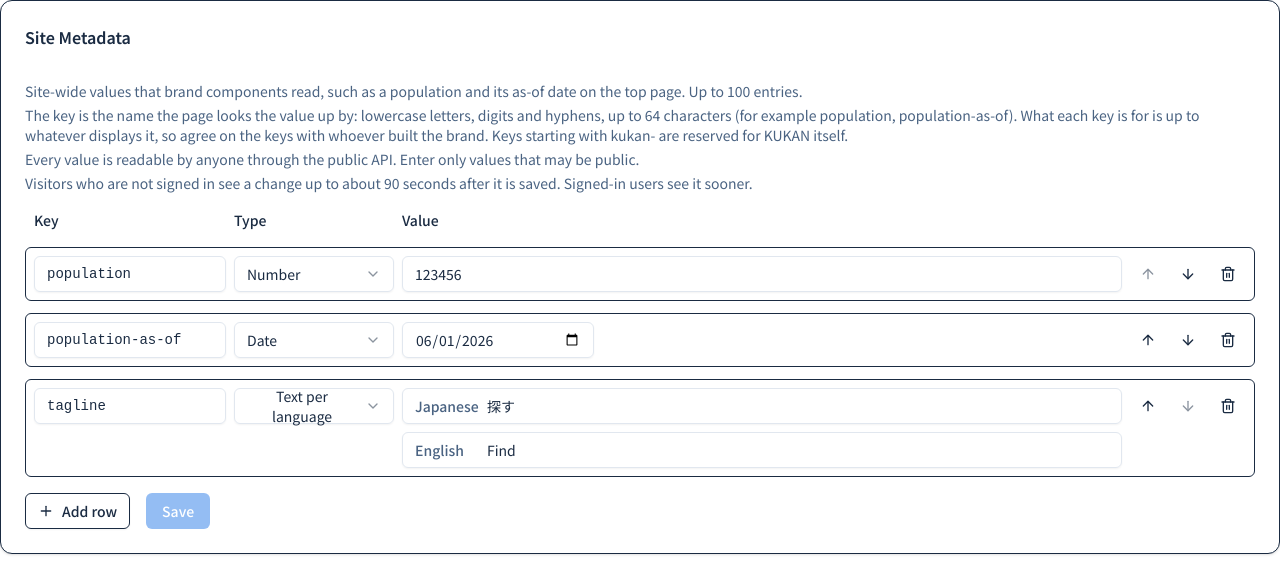
Test: SiteMetadataCard › should show why the server refused the save
Expected: the text "Site Metadata" is shown, [25,25,131,49]
Step 1. Click the 1st button named "Remove row" → (1228, 274), box [1210,256,1246,292]
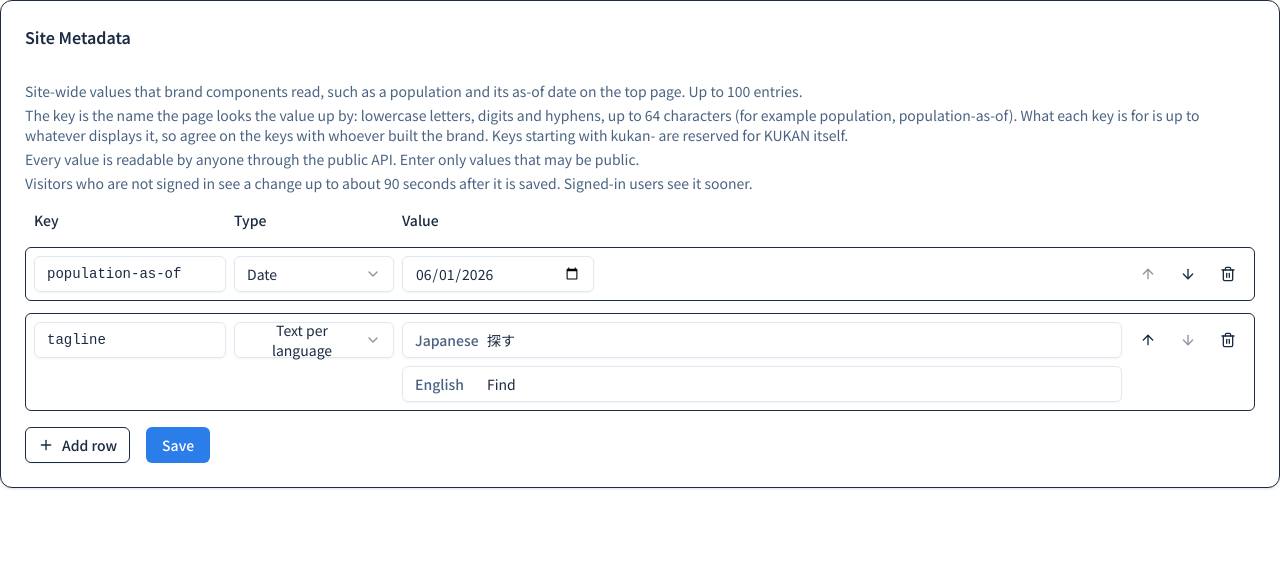
Step 2. Click the button "Save" → (178, 445), box [146,427,210,463]
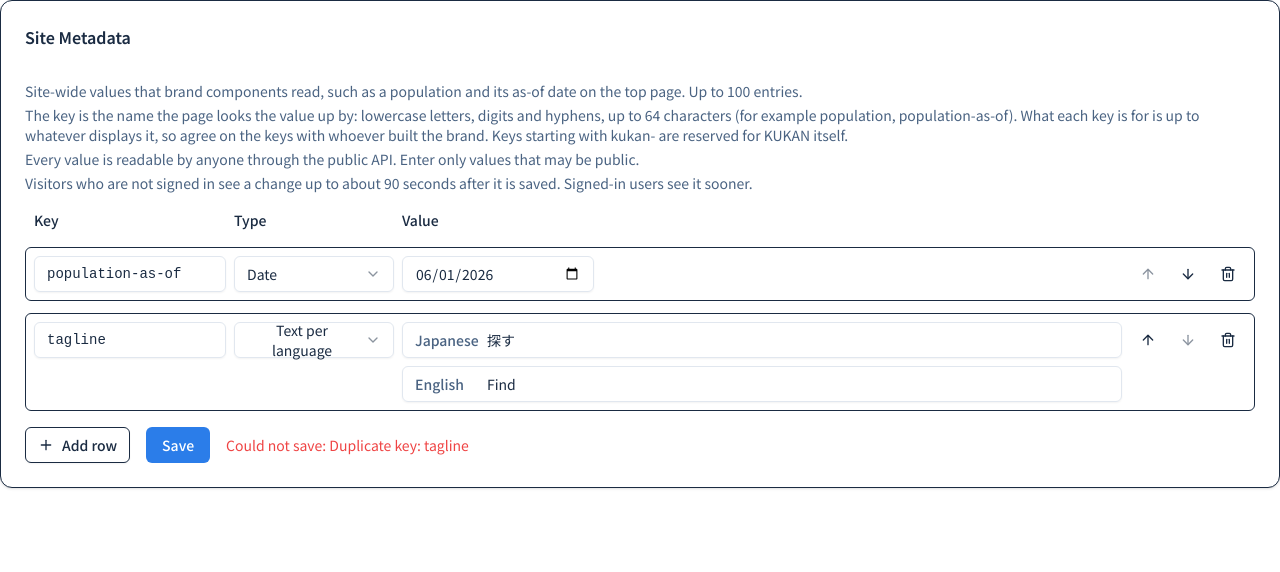
Expected: the message shows "Duplicate key: tagline", [226,435,469,455]
